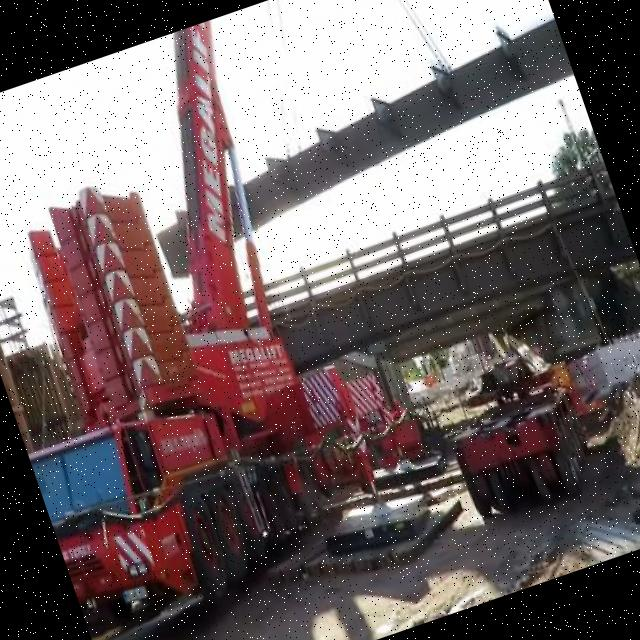Mobile Crane: (0, 15, 399, 633)
